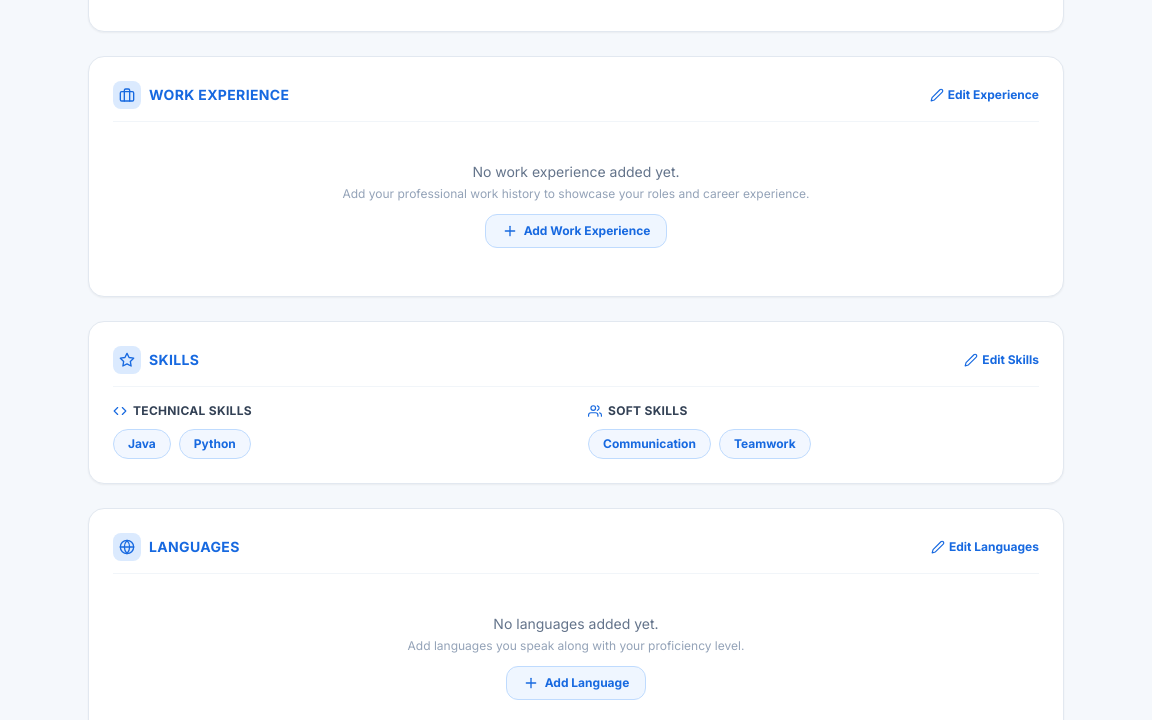
JobSeekerProfile › shows the Edit Skills modal with category-specific inputs and controls
(page scrolled)
Click the button "Edit Skills" at coordinates (1002, 360), box [964,352,1039,368]
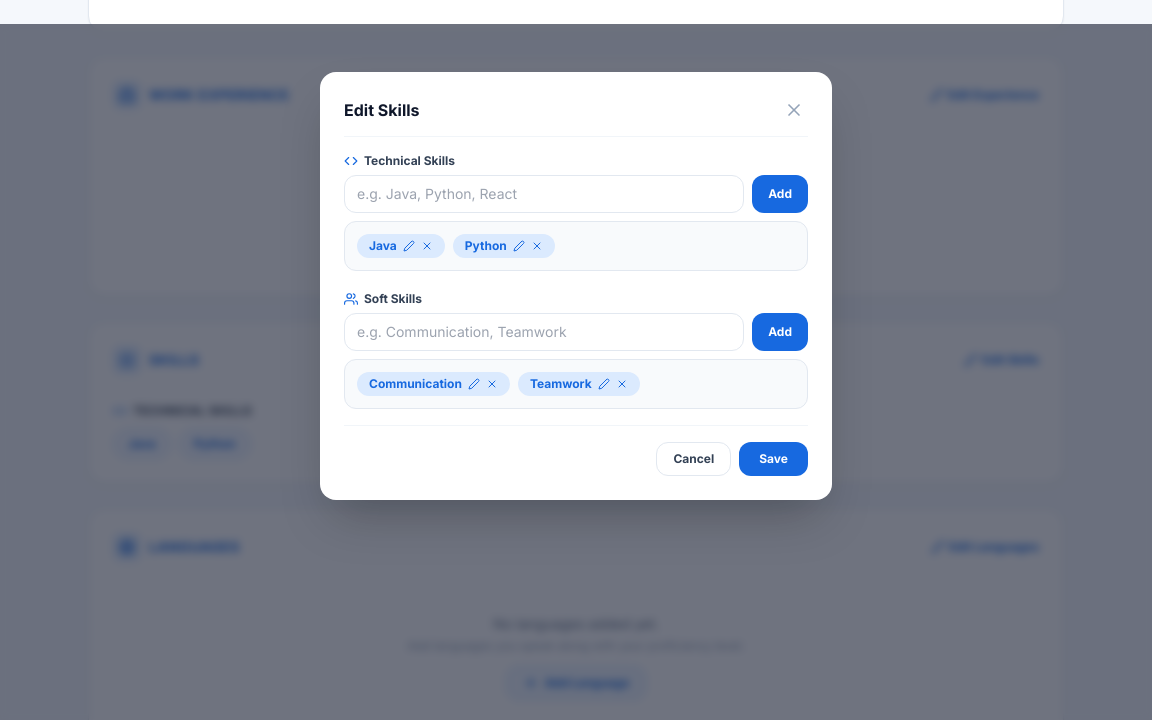
Result: the field with placeholder "e.g. Java, Python, React" is shown at [344,175,744,213]
Result: the field with placeholder "e.g. Communication, Teamwork" is shown at [344,313,744,351]
Result: the text "Java" is shown at [357,234,445,258]
